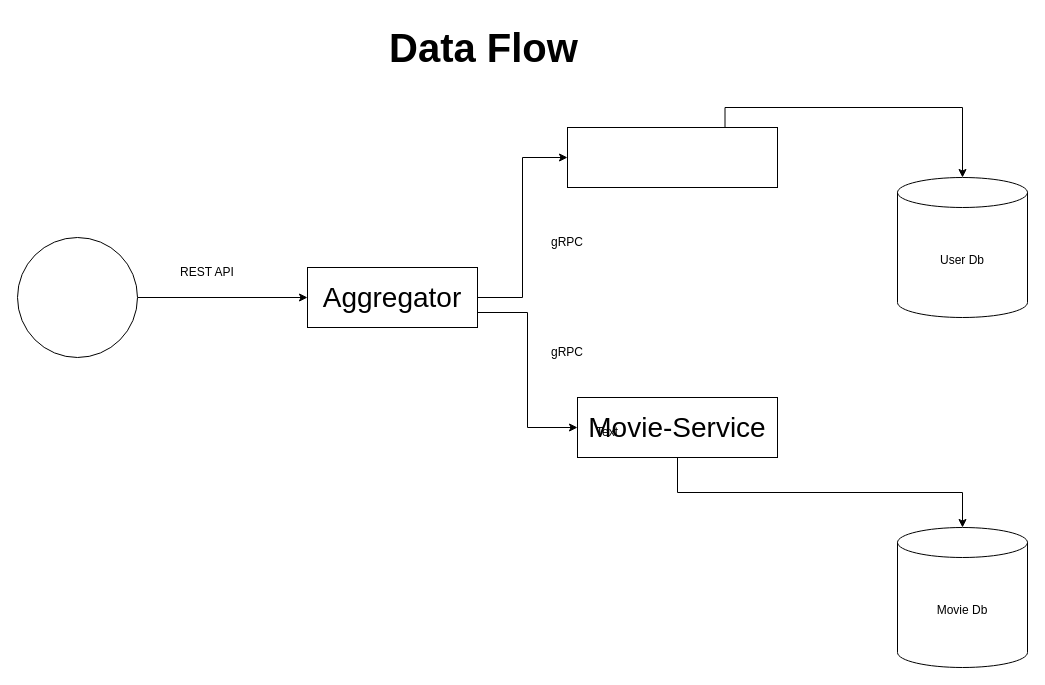
Some shapes in this 1045 by 685 pixel diagram are drawn without their labels. Here are the shapes that lost their labels. From the top down, the box of each, then its label:
(566, 126, 778, 188): User-Service
(16, 236, 138, 358): web browser
